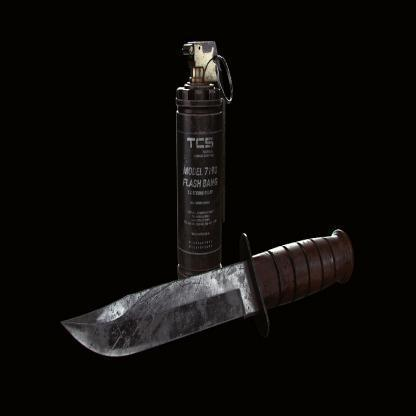Grenade: (173, 35, 235, 285)
Knife: (57, 227, 359, 362)
